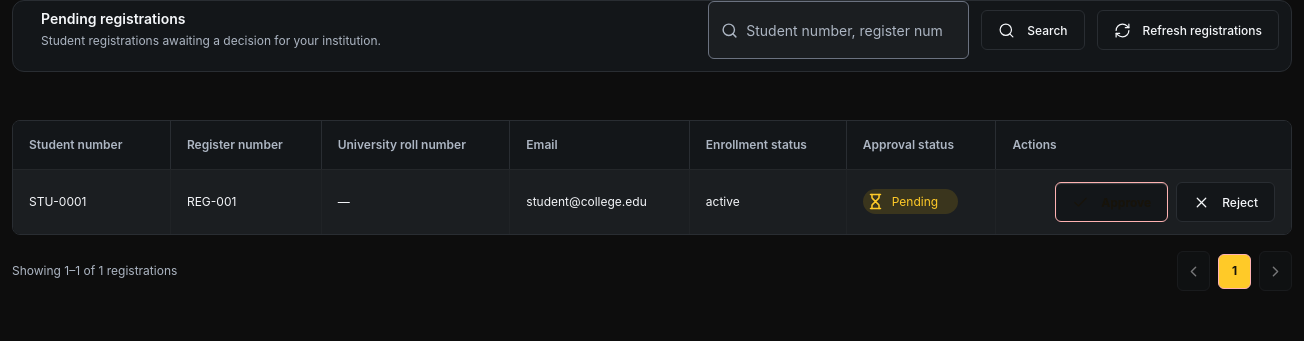
Scenario: StaffApprovals decisions › approves a student and removes the row from the queue
The width and height of the screenshot is (1304, 341).
Expected: the text "STU-0001" is shown, 13,169 -> 171,234
Click the button "Approve" at [1112, 202], box 1055,182 -> 1168,222
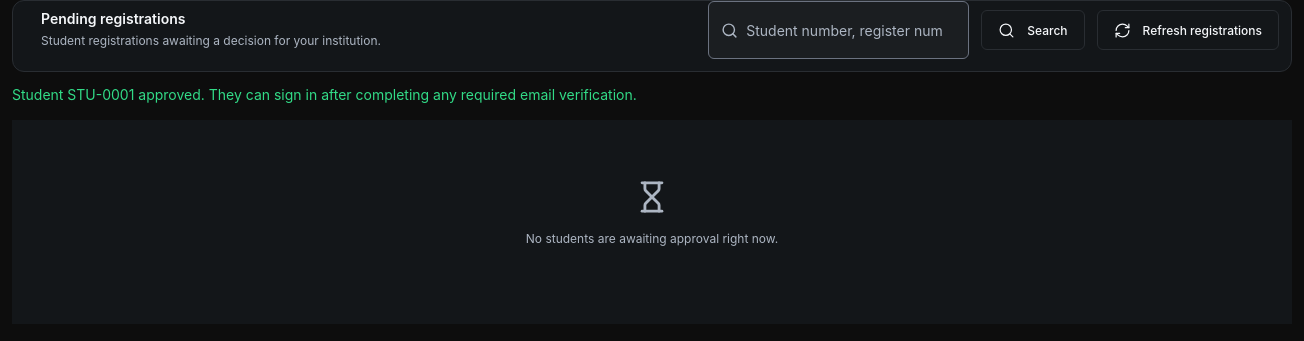
Expected: the text "No students are awaiting approval right now." is shown, 526,231 -> 778,246
